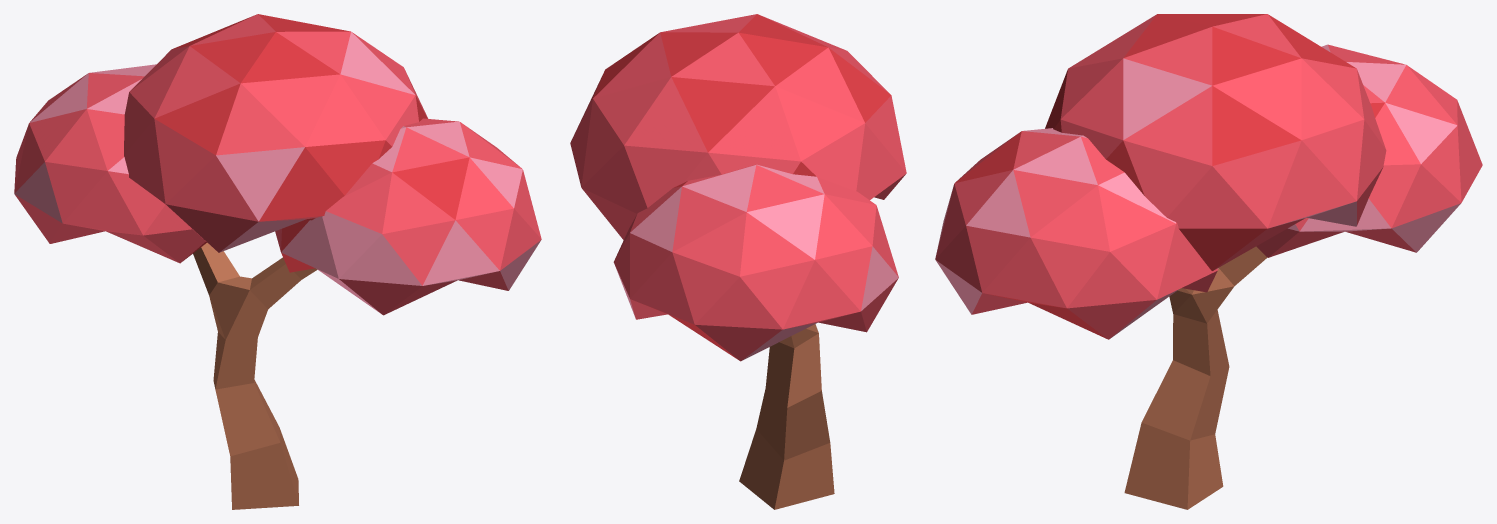
File: Tree_09.fbx
3 views of the same model, side by side, from view 1: azimuth 30°, elevation 25°; view 2: azimuth 150°, elevation 25°; view 3: azimuth 270°, elevation 25° (orthographic). The views are drawn at different scales.
Parts seen in each view (by area): view 1: Tree_09; view 2: Tree_09; view 3: Tree_09.
Part boxes in pixels (x1=…): Tree_09: x1=14, y1=14, x2=541, y2=509; Tree_09: x1=570, y1=14, x2=906, y2=509; Tree_09: x1=935, y1=14, x2=1482, y2=509.
Size of the model in its own units: 517 by 581 by 600.
